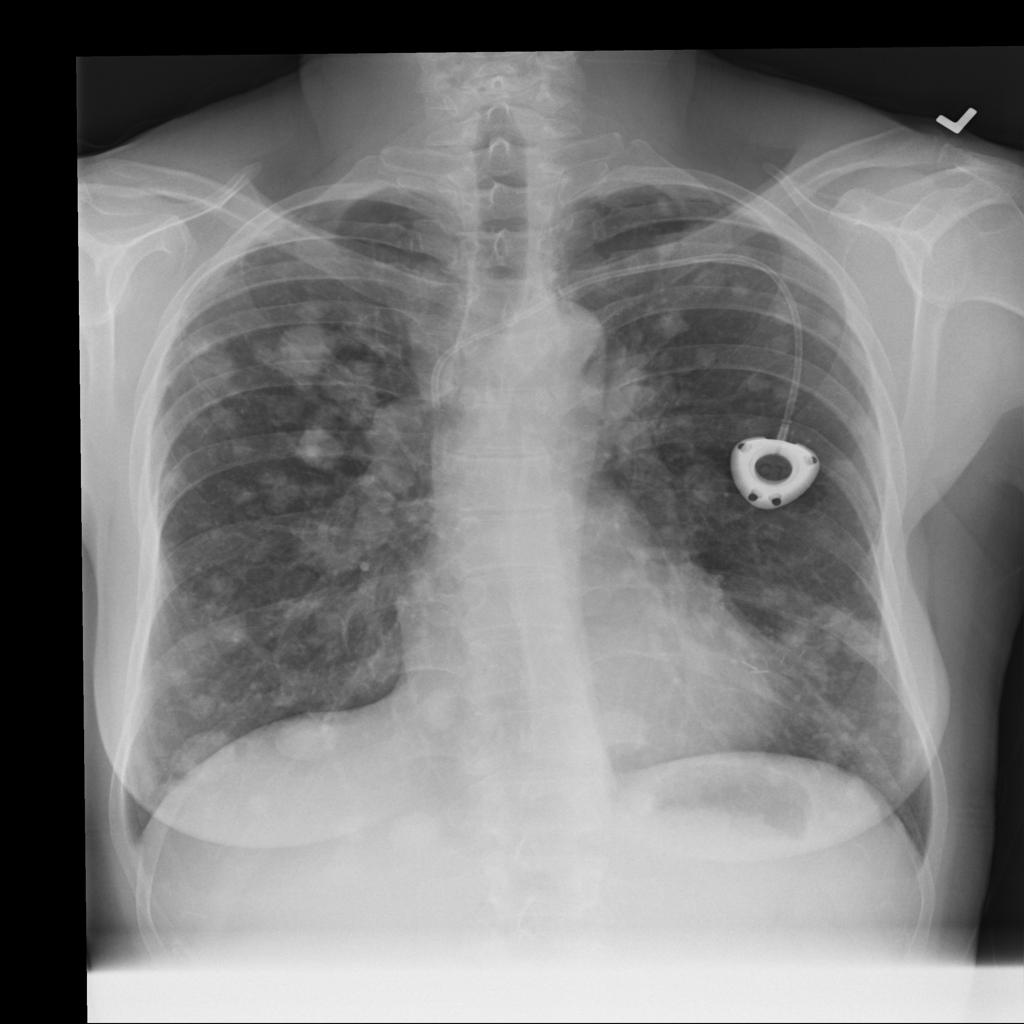nodule: (376, 799, 460, 870), (167, 721, 250, 792), (260, 311, 344, 380), (265, 698, 349, 767), (595, 350, 673, 422), (590, 694, 666, 766), (827, 605, 905, 675), (360, 400, 433, 472), (152, 648, 223, 720), (406, 668, 470, 744), (282, 406, 356, 470), (172, 333, 247, 396), (189, 595, 260, 661), (318, 353, 389, 418), (240, 455, 308, 519), (675, 462, 729, 512), (200, 402, 255, 448), (644, 299, 701, 342), (686, 258, 739, 301), (812, 307, 850, 345), (762, 322, 801, 357), (740, 367, 780, 401), (686, 337, 724, 372), (728, 276, 766, 309)
